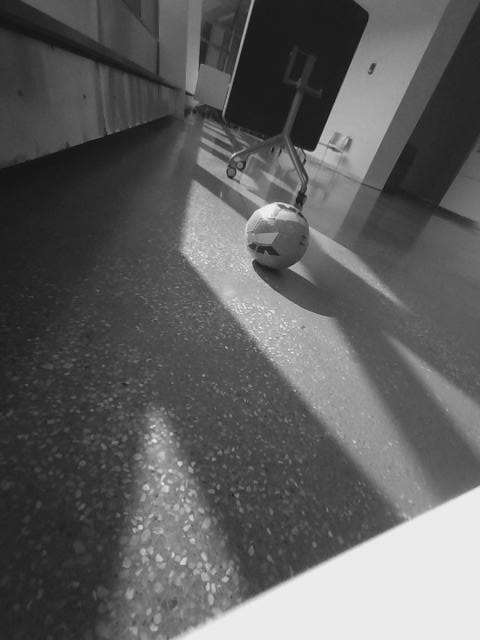ball: (241, 202, 313, 270)
